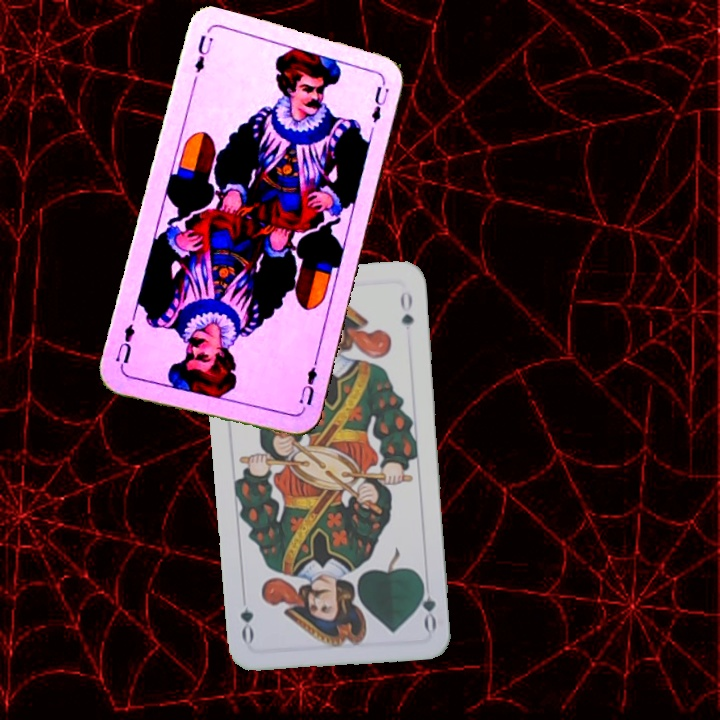EU: (292, 357, 320, 416), (190, 31, 216, 76)
GO: (416, 574, 439, 633)
